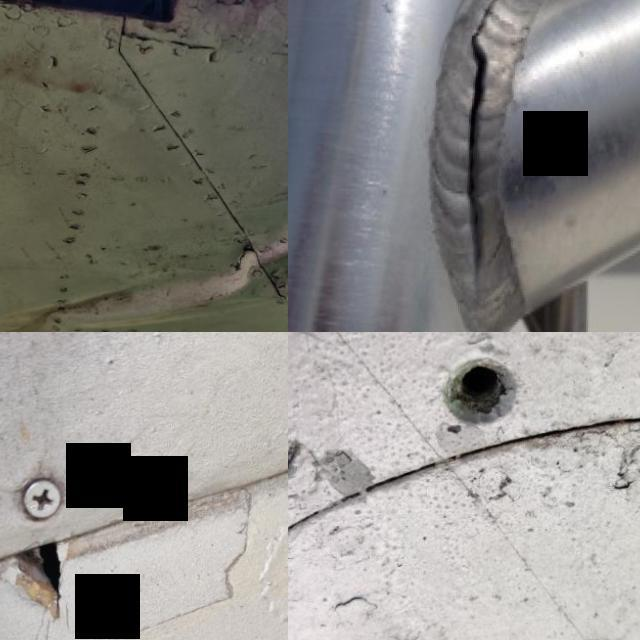Crack: (462, 0, 510, 300), (0, 515, 105, 640), (230, 242, 260, 273)
Dent: (178, 153, 288, 329), (0, 265, 152, 332)
Missing_Fastener: (399, 332, 566, 482)
